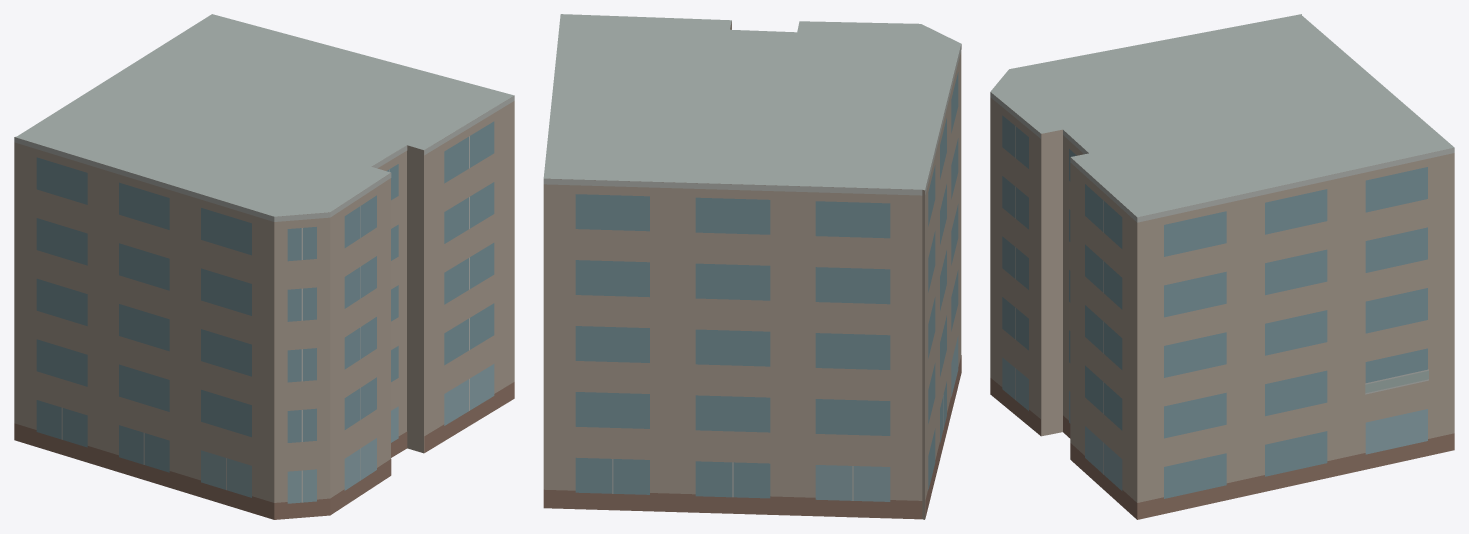
The model's file is survey-upis-32982532.glb.
The picture shows the model from 3 angles, left to right: view 1: azimuth 30°, elevation 25°; view 2: azimuth 150°, elevation 25°; view 3: azimuth 270°, elevation 25°; orthographic projection. The views are drawn at different scales.
Parts seen in each view (by area): view 1: survey-upis-32982532.tmp; view 2: survey-upis-32982532.tmp; view 3: survey-upis-32982532.tmp.
Part boxes in pixels (x1,y1,x2,y2): survey-upis-32982532.tmp: (14,14,514,519); survey-upis-32982532.tmp: (543,14,961,519); survey-upis-32982532.tmp: (990,14,1454,519).
Bounding box in the file's own units: 19.98 × 13.85 × 19.28.
